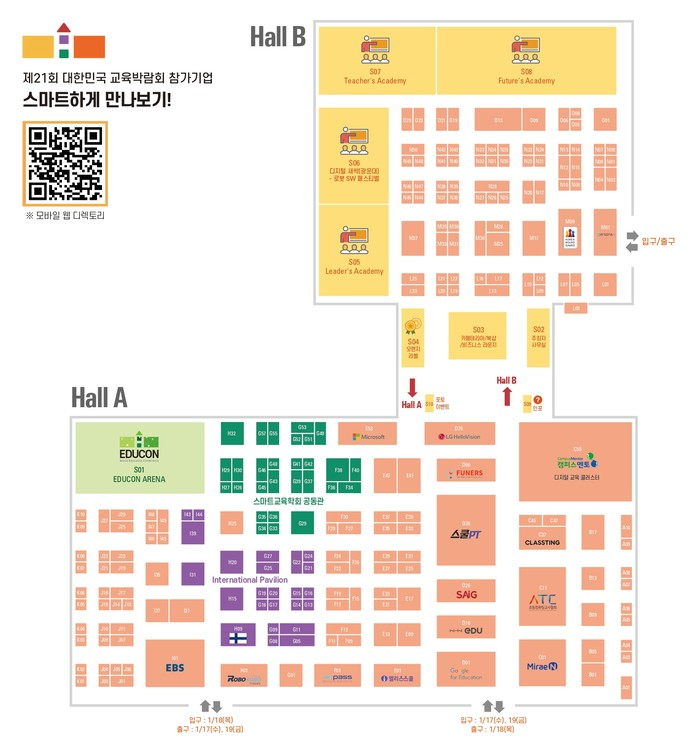booth: (435, 25, 616, 96), (318, 25, 435, 95), (318, 108, 388, 204), (318, 206, 388, 296), (400, 108, 411, 131), (413, 108, 424, 131), (435, 108, 446, 131), (447, 108, 458, 131), (558, 109, 569, 130)
boundary: (69, 417, 637, 705), (314, 19, 633, 304), (396, 302, 553, 417)
